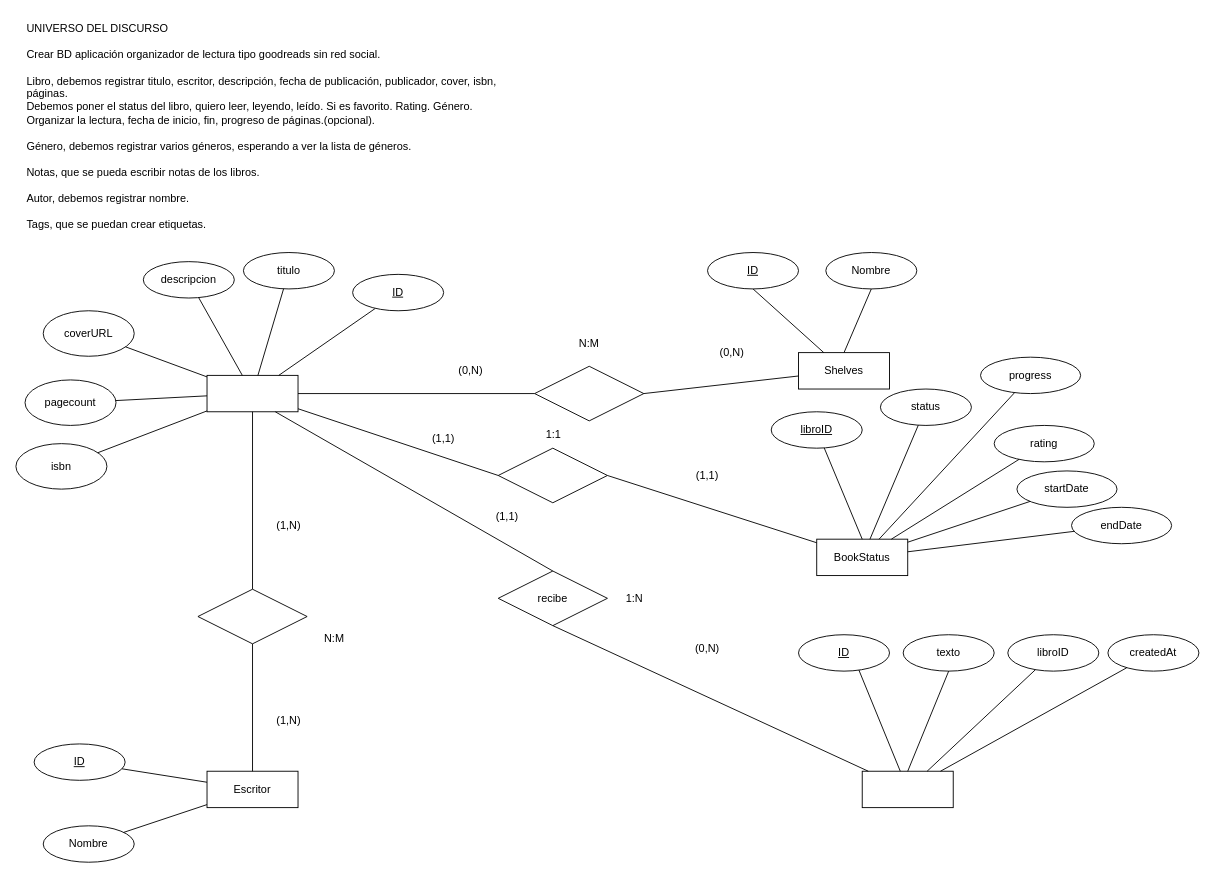
This 1215x878 diagram has some shape labels left out. Each missing label, with the centre of its shape:
clasifica: (x=552, y=475)
Escribe: (x=252, y=616)
Libro: (x=252, y=393)
Notas: (x=907, y=789)
organiza: (x=589, y=393)
